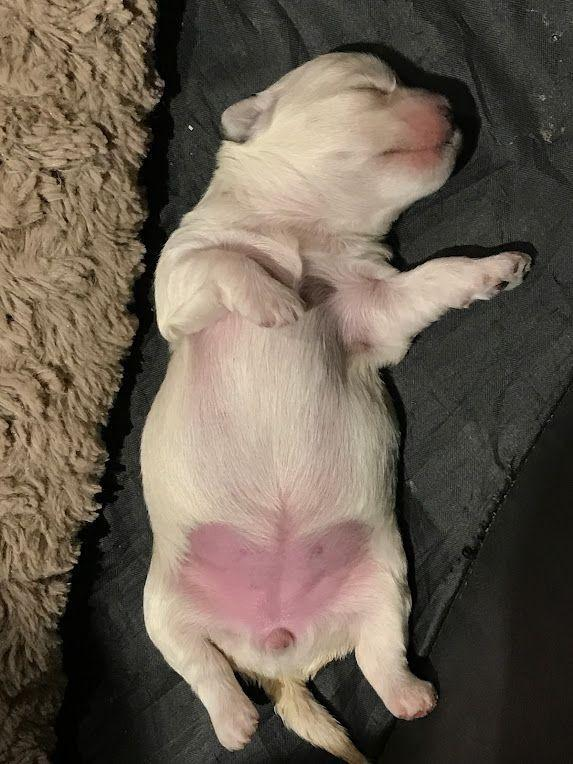puppy-dog: (139, 48, 533, 764)
